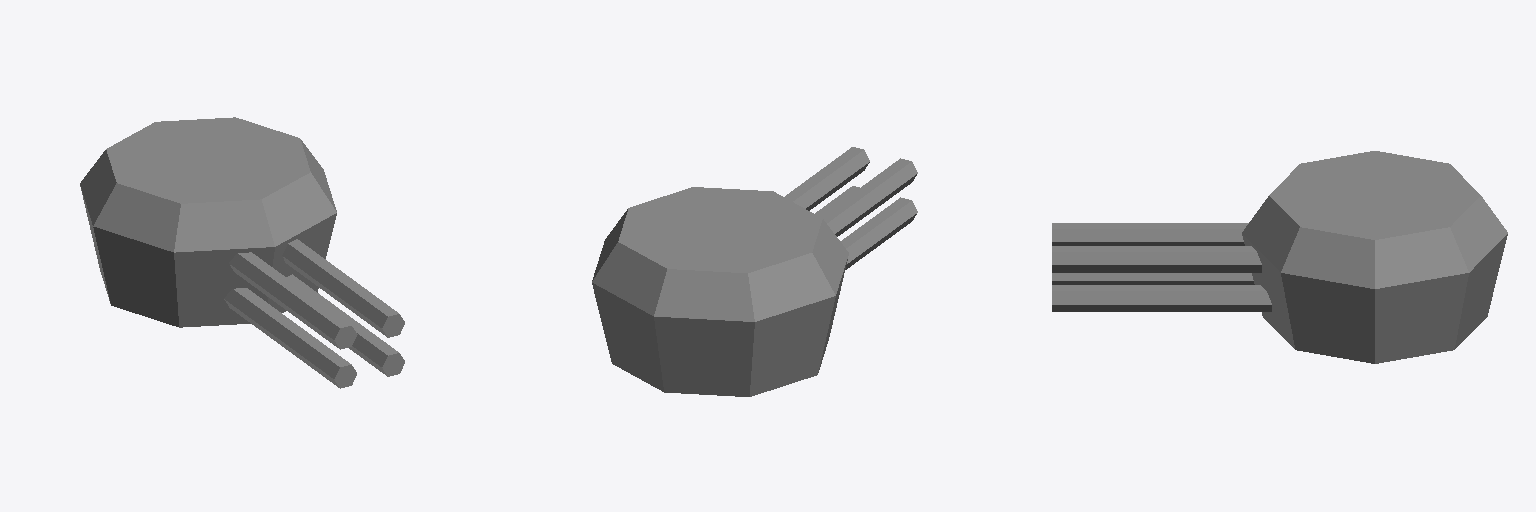
Rendered from Turret3.obj.
3 views of the same model, side by side, from view 1: azimuth 30°, elevation 25°; view 2: azimuth 150°, elevation 25°; view 3: azimuth 270°, elevation 25° (orthographic).
Visible parts, largest first — view 1: Cylinder04; view 2: Cylinder04; view 3: Cylinder04.
Boxes of the visible parts, x1=… form: Cylinder04: x1=80, y1=117, x2=404, y2=388; Cylinder04: x1=592, y1=147, x2=917, y2=396; Cylinder04: x1=1052, y1=151, x2=1507, y2=363.
Size of the model in its own units: 1.97 by 0.9867 by 3.37.